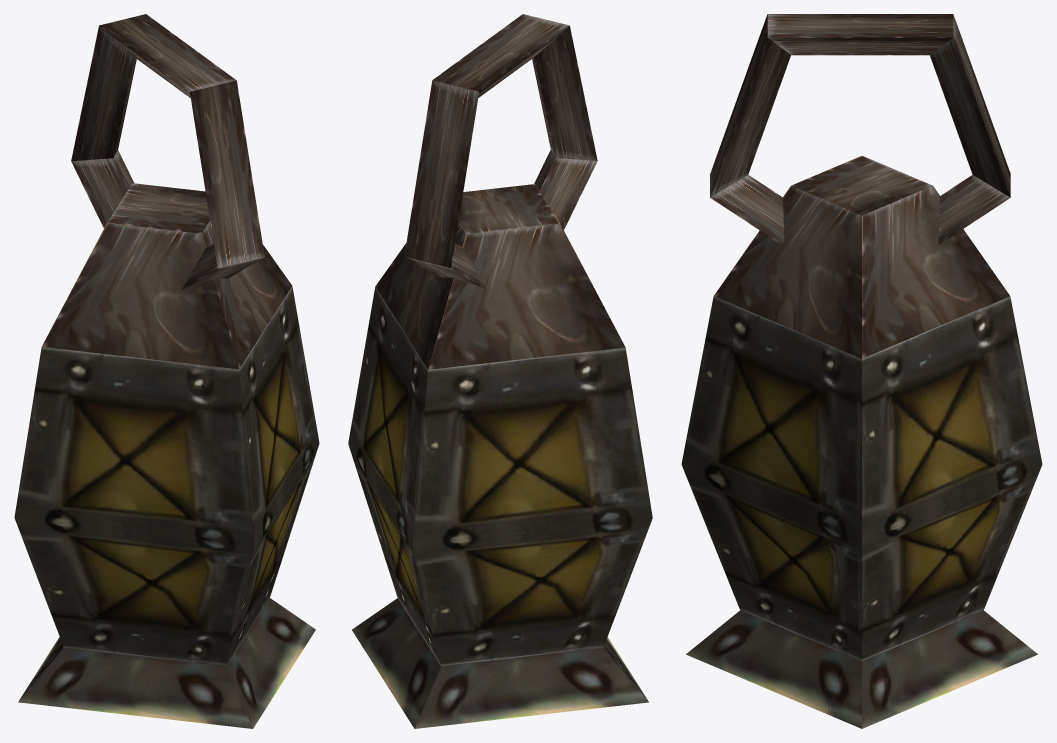
Rendered from generallantern02.obj.
3 renders of one model, left to right at view 1: azimuth 30°, elevation 25°; view 2: azimuth 150°, elevation 25°; view 3: azimuth 270°, elevation 25°, orthographic. The views are drawn at different scales.
Parts seen in each view (by area): view 1: Geoset1, Geoset0; view 2: Geoset1, Geoset0; view 3: Geoset1, Geoset0.
Boxes of the visible parts, x1=… form: Geoset1: x1=14, y1=286, x2=319, y2=666; Geoset0: x1=18, y1=14, x2=315, y2=728; Geoset1: x1=348, y1=287, x2=652, y2=666; Geoset0: x1=352, y1=14, x2=648, y2=728; Geoset1: x1=681, y1=296, x2=1042, y2=661; Geoset0: x1=686, y1=14, x2=1037, y2=728.
Size of the model in its own units: 0.7158 by 1.38 by 0.7158.
Materials: 2 (2 with a texture image).
